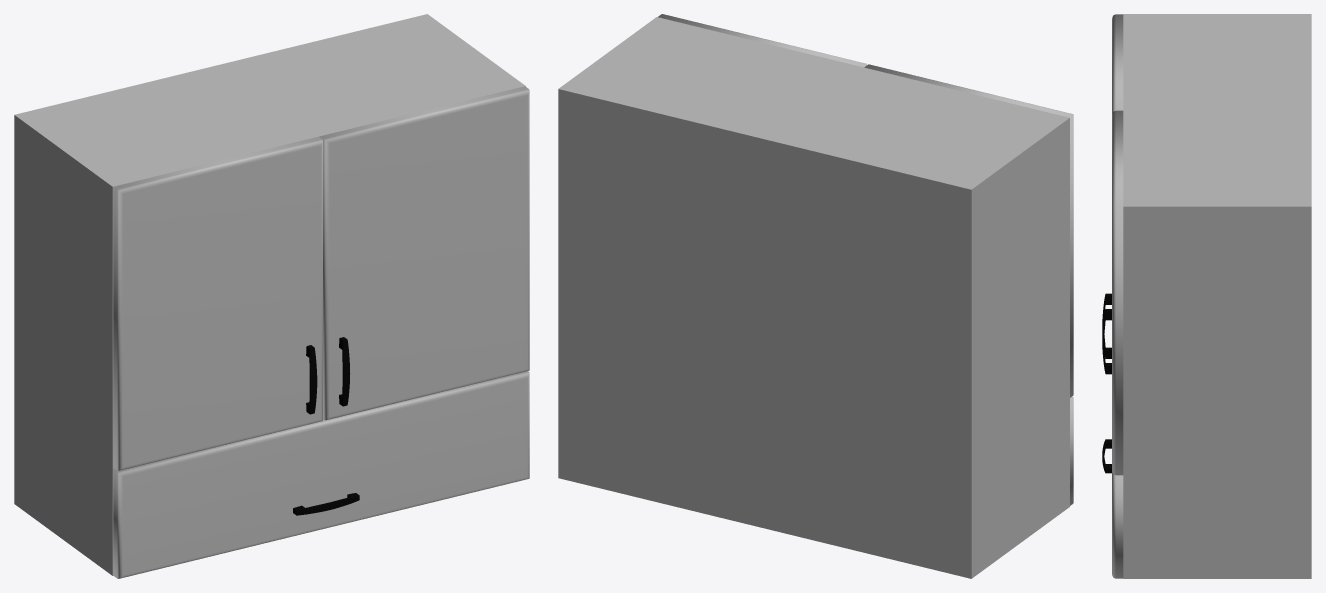
File: mdk80.glb
The picture shows the model from 3 angles, left to right: view 1: azimuth 30°, elevation 25°; view 2: azimuth 150°, elevation 25°; view 3: azimuth 270°, elevation 25°; orthographic projection. The views are drawn at different scales.
Visible parts, largest first — view 1: Box001, Box011, Box012, Box013; view 2: Box001, Box011, Box012; view 3: Box001, Box012, Box013, Box011, Obj3d66-503491-2-345.
Part boxes in pixels (bbox=[...]): Box001: bbox=[14, 14, 525, 575]; Box011: bbox=[113, 136, 322, 470]; Box012: bbox=[320, 86, 529, 420]; Box013: bbox=[113, 371, 529, 578]; Box001: bbox=[558, 17, 1069, 578]; Box011: bbox=[864, 64, 1073, 397]; Box012: bbox=[658, 14, 866, 67]; Box001: bbox=[1123, 14, 1311, 578]; Box012: bbox=[1112, 110, 1123, 475]; Box013: bbox=[1112, 471, 1123, 578]; Box011: bbox=[1112, 14, 1123, 114]; Obj3d66-503491-2-345: bbox=[1102, 309, 1111, 374].
Size of the model in its own units: 0.8 by 0.72 by 0.3671.
Materials: 2 (1 with a texture image).
